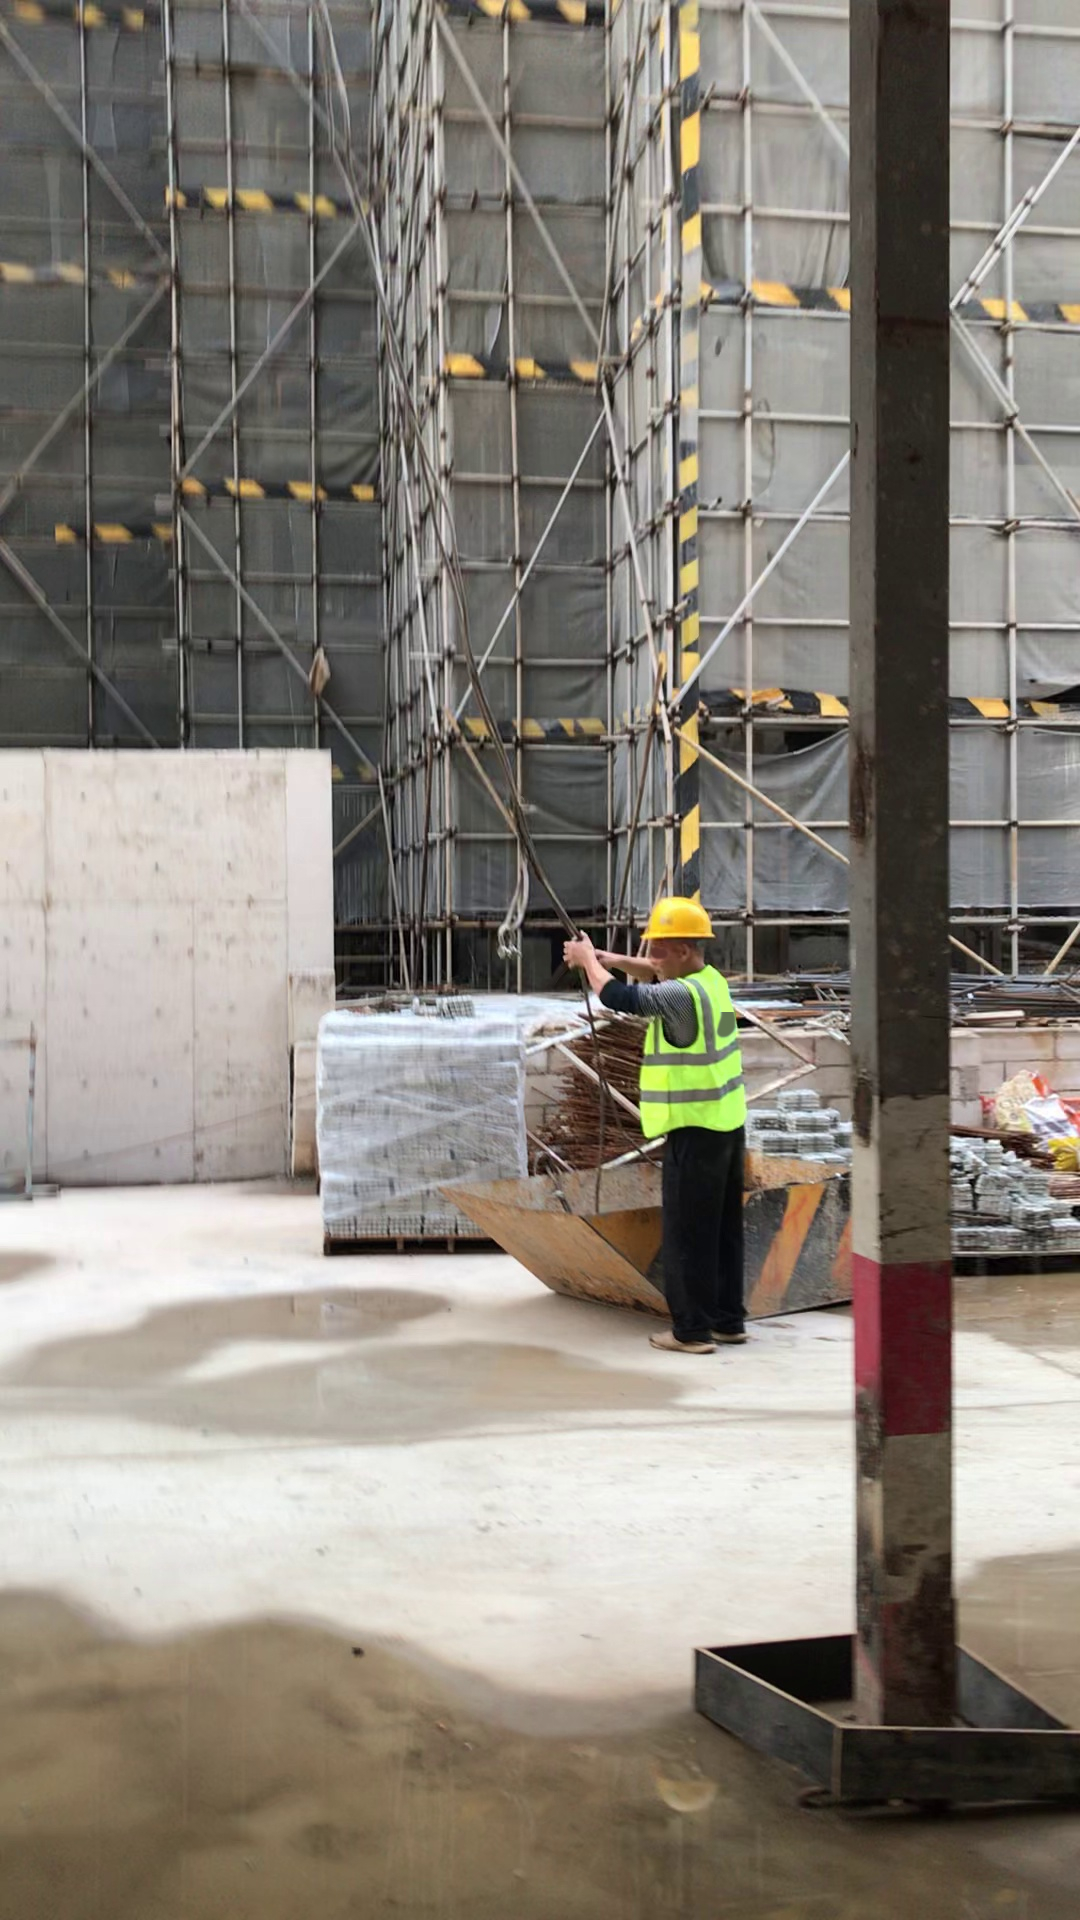helmet: (636, 895, 720, 941)
hopper: (472, 1153, 847, 1336)
person: (555, 894, 802, 1363)
vest: (635, 976, 755, 1139)
